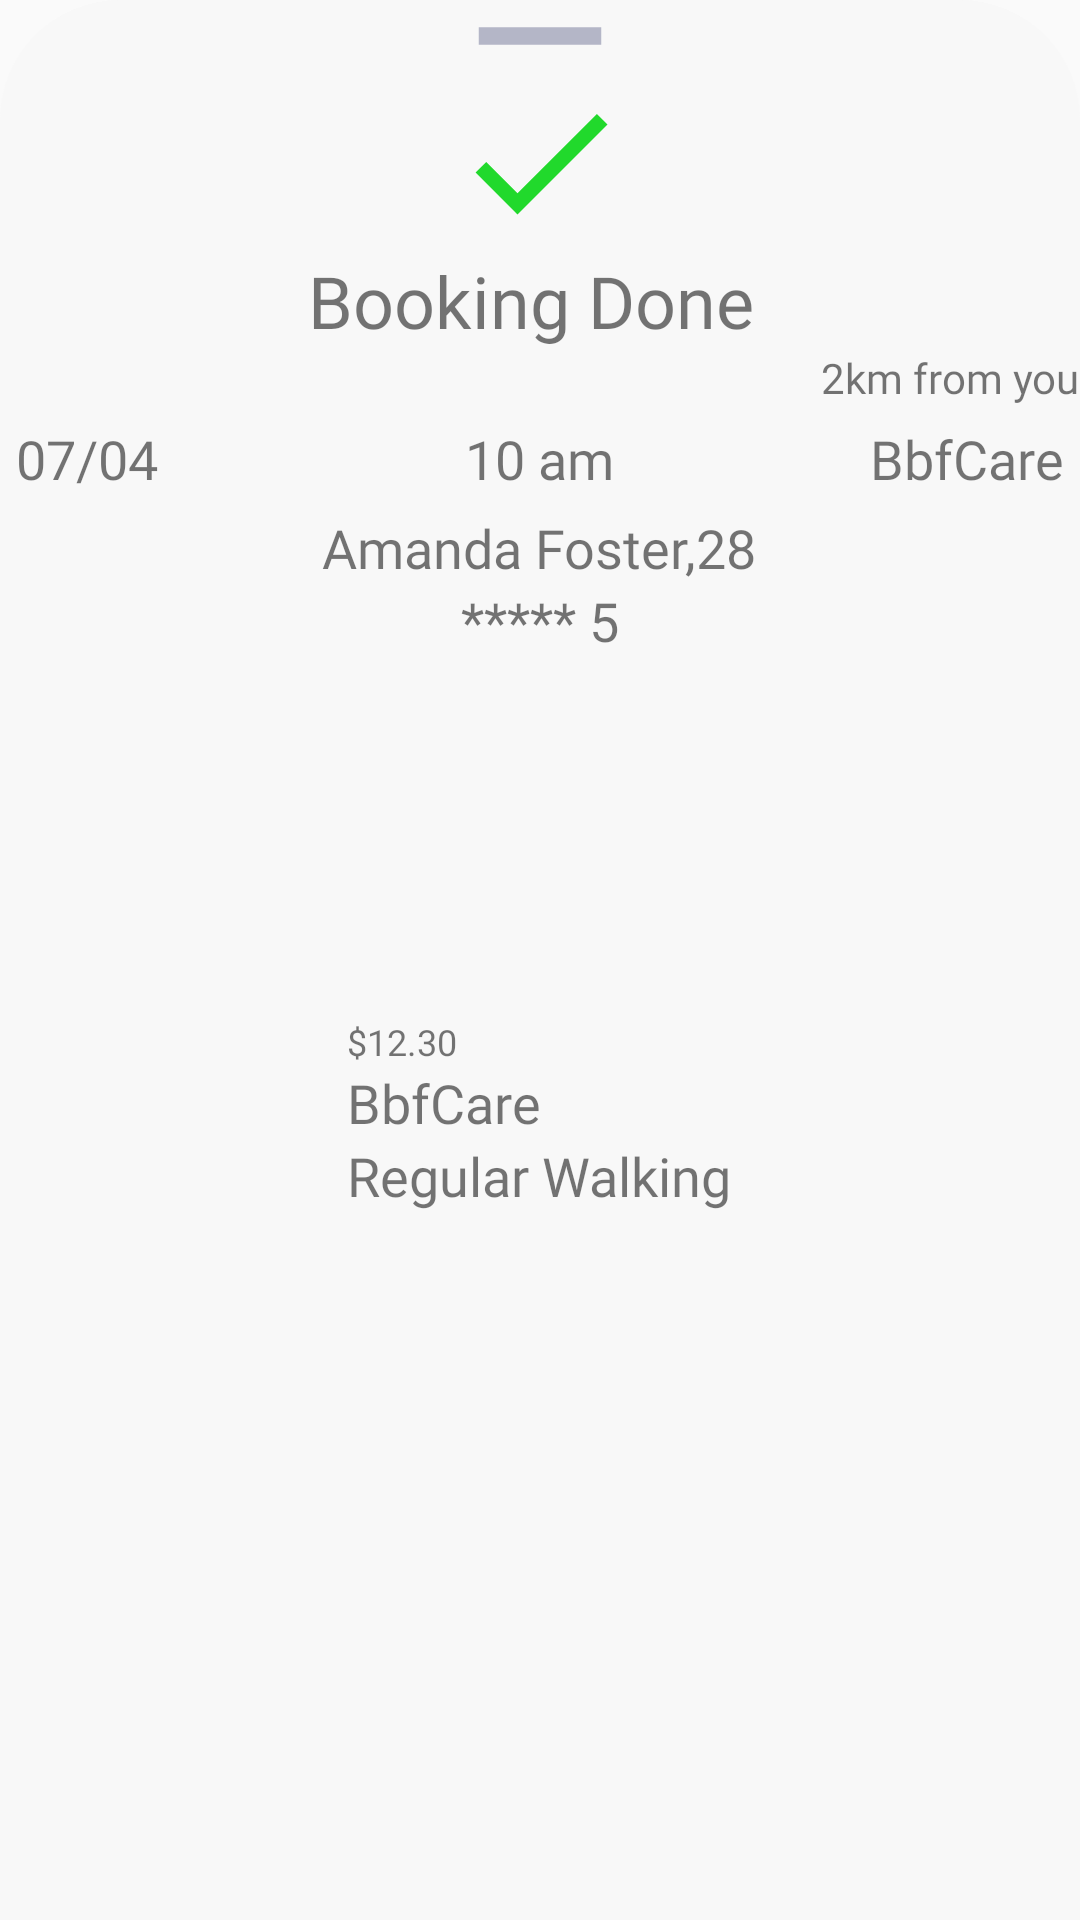

Where icons sit on this 1080×1920 app screen, as (x1, y1, x2, y2):
check for booking: (475, 114, 608, 215)
